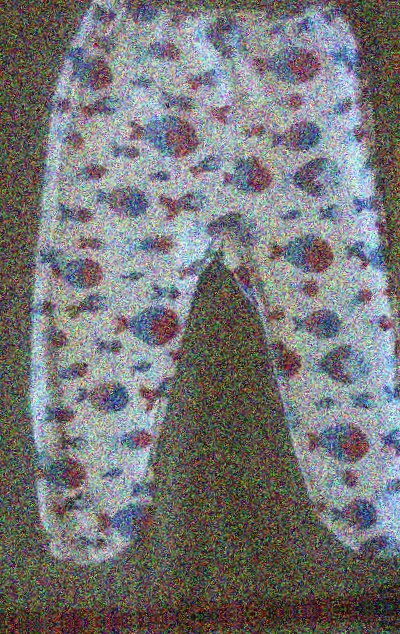Pants: (0, 0, 400, 586)
